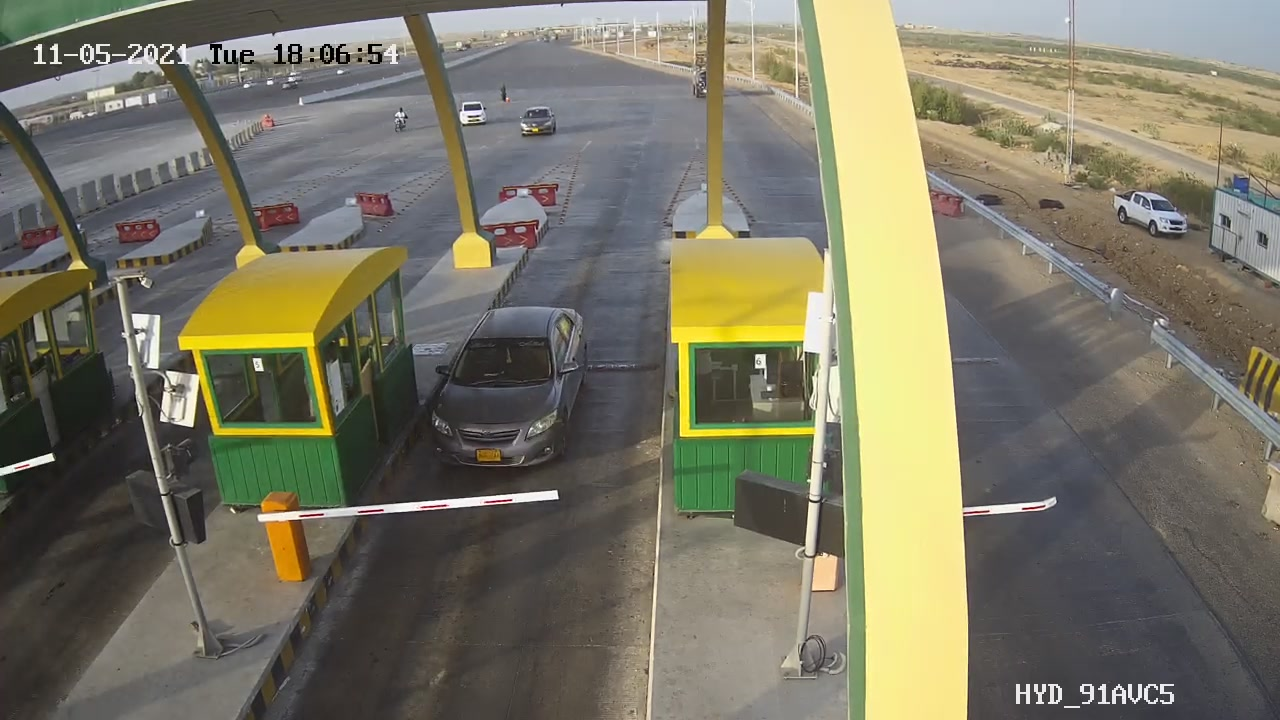F1: (417, 288, 596, 483)
